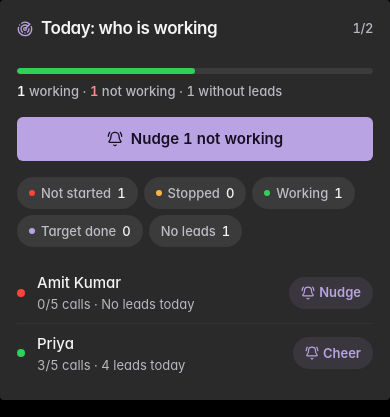
Scenario: ControlRoomCard › shows stuck members first, filters, and nudges once
Expected: the text "Amit Kumar" is shown, [37, 273, 121, 292]
Expected: the text "0/5 calls · No leads today" is shown, [37, 296, 195, 312]
Click the button "Working 1" at (303, 193), box [252, 177, 355, 209]
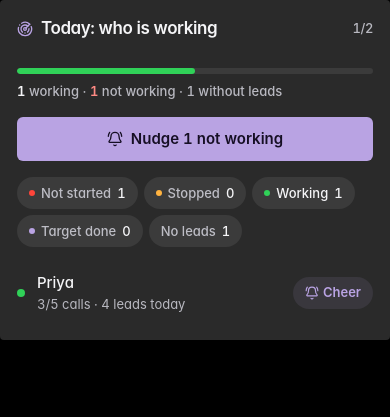
Expected: the text "Amit Kumar" is gone
Click the button "Working 1" at (303, 193), box [252, 177, 355, 209]
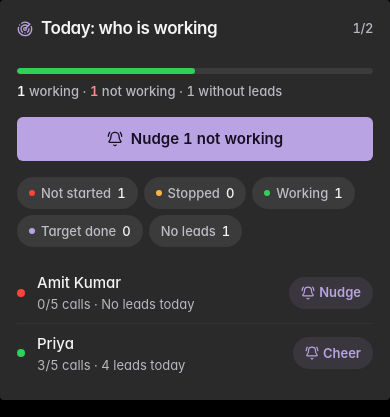
Click the button with aria-label "Nudge Amit" at (331, 293), box [289, 277, 373, 309]
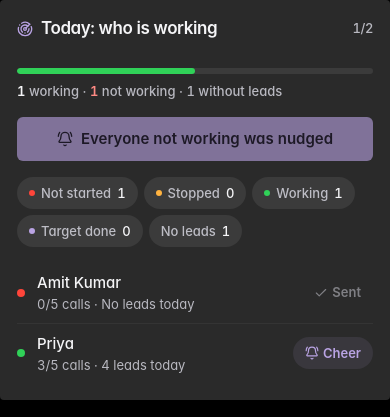
Expected: the button with aria-label "Amit nudged" is disabled, [302, 277, 373, 309]
Expected: the button "Everyone not working was nudged" is disabled, [17, 117, 373, 161]
